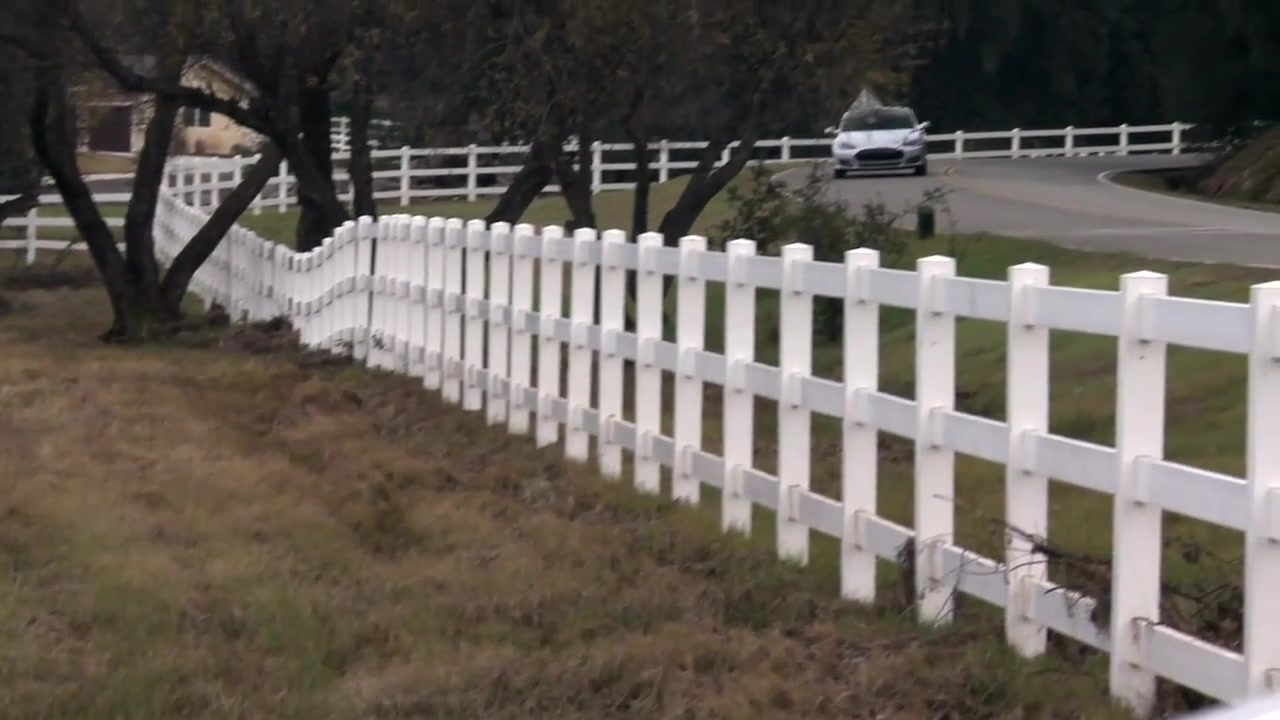car: (823, 105, 933, 174)
